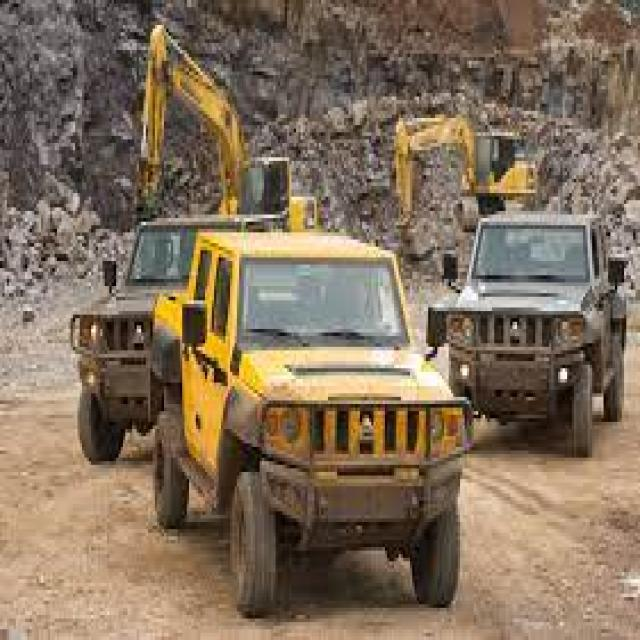excavator: (125, 18, 333, 275), (382, 100, 562, 275)
light_vehicle: (143, 218, 490, 615), (71, 200, 289, 522), (432, 182, 638, 468)
